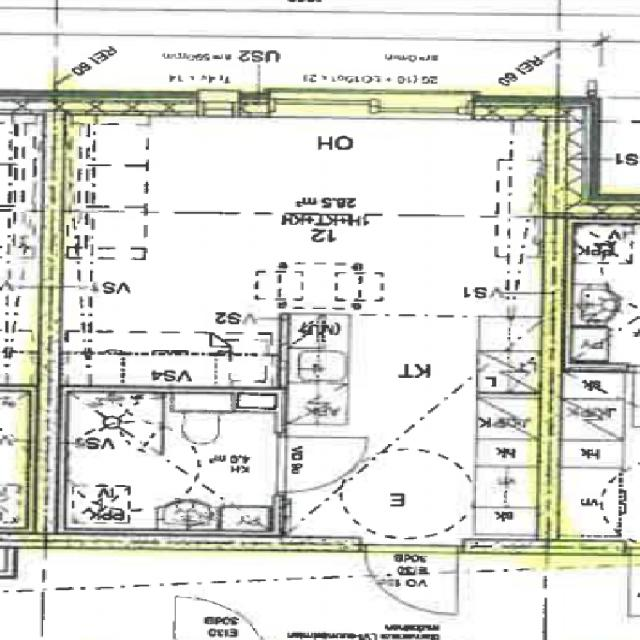door: (365, 538, 459, 622), (277, 437, 373, 492)
